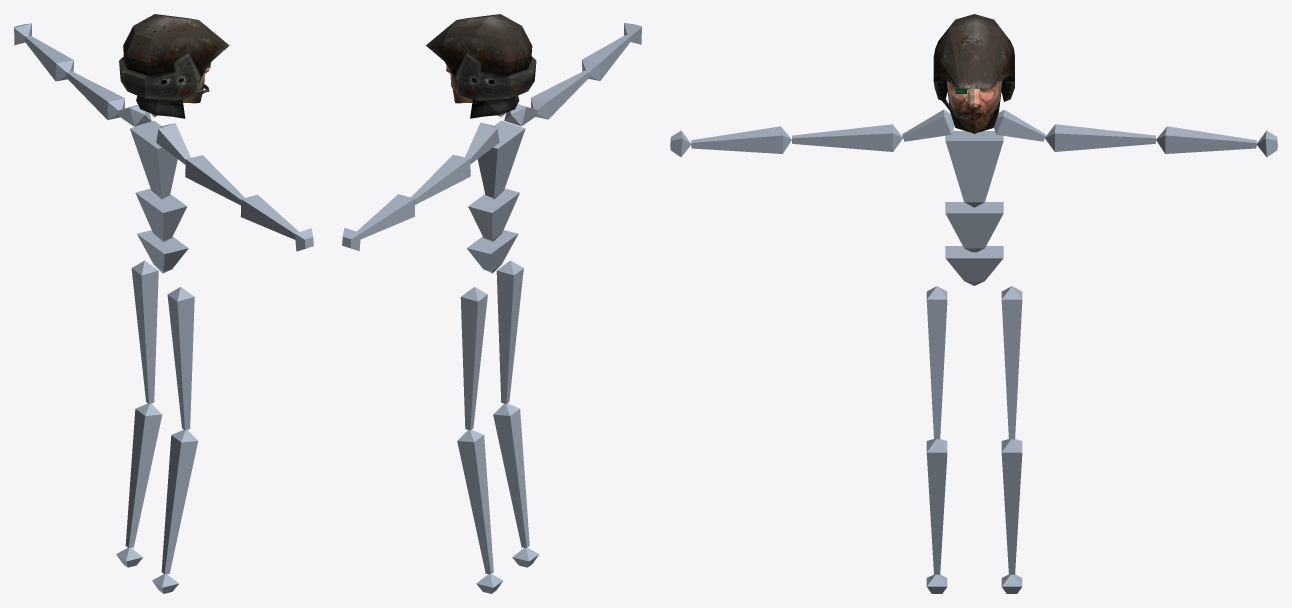
File: head variants.obj
The picture shows the model from 3 angles, left to right: view 1: azimuth 30°, elevation 25°; view 2: azimuth 150°, elevation 25°; view 3: azimuth 270°, elevation 25°; orthographic projection. The views are drawn at different scales.
Parts seen in each view (by area): view 1: head, bip01_l_calf, bip01_r_calf, bip01_l_thigh, bip01_r_thigh, bip01_spine1, bip01_spine, bip01_r_upperarm, bip01_l_upperarm, bip01_r_forearm, bip01_pelvis, bip01_l_forearm (+2 smaller); view 2: head, bip01_l_calf, bip01_r_calf, bip01_r_thigh, bip01_l_thigh, bip01_spine1, bip01_spine, bip01_l_upperarm, bip01_r_upperarm, bip01_l_forearm, bip01_pelvis, bip01_r_forearm (+2 smaller); view 3: head, bip01_spine1, bip01_l_thigh, bip01_r_thigh, bip01_spine, bip01_r_upperarm, bip01_l_upperarm, bip01_l_calf, bip01_r_calf, bip01_r_forearm, bip01_l_forearm, bip01_pelvis (+2 smaller).
Part boxes in pixels (left/top/right/bottom): head: left=119, top=14, right=229, bottom=118; bip01_l_calf: left=125, top=403, right=162, bottom=547; bip01_r_calf: left=161, top=430, right=198, bottom=574; bip01_l_thigh: left=131, top=260, right=158, bottom=403; bip01_r_thigh: left=167, top=287, right=194, bottom=430; bip01_spine1: left=130, top=120, right=177, bottom=199; bip01_spine: left=135, top=188, right=187, bottom=241; bip01_r_upperarm: left=185, top=155, right=244, bottom=205; bip01_l_upperarm: left=66, top=71, right=124, bottom=119; bip01_r_forearm: left=240, top=194, right=298, bottom=239; bip01_pelvis: left=137, top=230, right=188, bottom=273; bip01_l_forearm: left=25, top=35, right=73, bottom=81; head: left=426, top=14, right=536, bottom=118; bip01_l_calf: left=457, top=429, right=493, bottom=574; bip01_r_calf: left=493, top=403, right=529, bottom=547; bip01_r_thigh: left=496, top=260, right=523, bottom=404; bip01_l_thigh: left=460, top=287, right=487, bottom=430; bip01_spine1: left=477, top=120, right=525, bottom=199; bip01_spine: left=468, top=188, right=519, bottom=241; bip01_l_upperarm: left=411, top=154, right=470, bottom=204; bip01_r_upperarm: left=531, top=70, right=589, bottom=119; bip01_l_forearm: left=357, top=194, right=415, bottom=239; bip01_pelvis: left=466, top=230, right=518, bottom=273; bip01_r_forearm: left=582, top=35, right=630, bottom=80; head: left=933, top=14, right=1014, bottom=134; bip01_spine1: left=945, top=131, right=1003, bottom=207; bip01_l_thigh: left=1001, top=286, right=1022, bottom=439; bip01_r_thigh: left=926, top=286, right=947, bottom=439; bip01_spine: left=945, top=202, right=1003, bottom=252; bip01_r_upperarm: left=792, top=124, right=902, bottom=151; bip01_l_upperarm: left=1045, top=124, right=1155, bottom=151; bip01_l_calf: left=1001, top=439, right=1022, bottom=574; bip01_r_calf: left=926, top=439, right=947, bottom=574; bip01_r_forearm: left=691, top=126, right=791, bottom=153; bip01_l_forearm: left=1156, top=126, right=1256, bottom=153; bip01_pelvis: left=945, top=246, right=1003, bottom=285.
Size of the model in its own units: 11.63 by 61.52 by 58.45.
